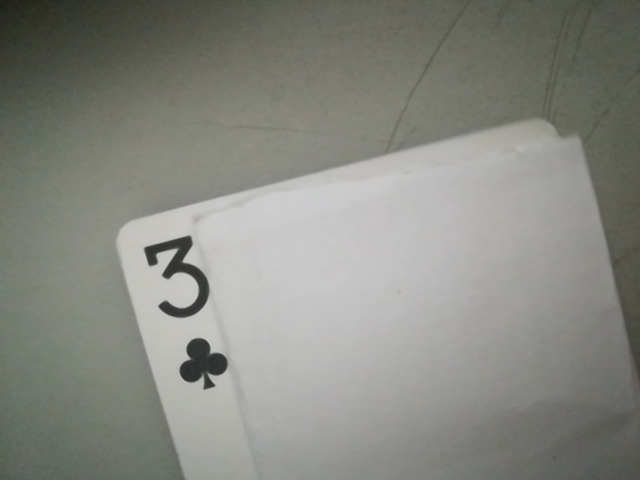mh 3: (130, 228, 233, 394)
